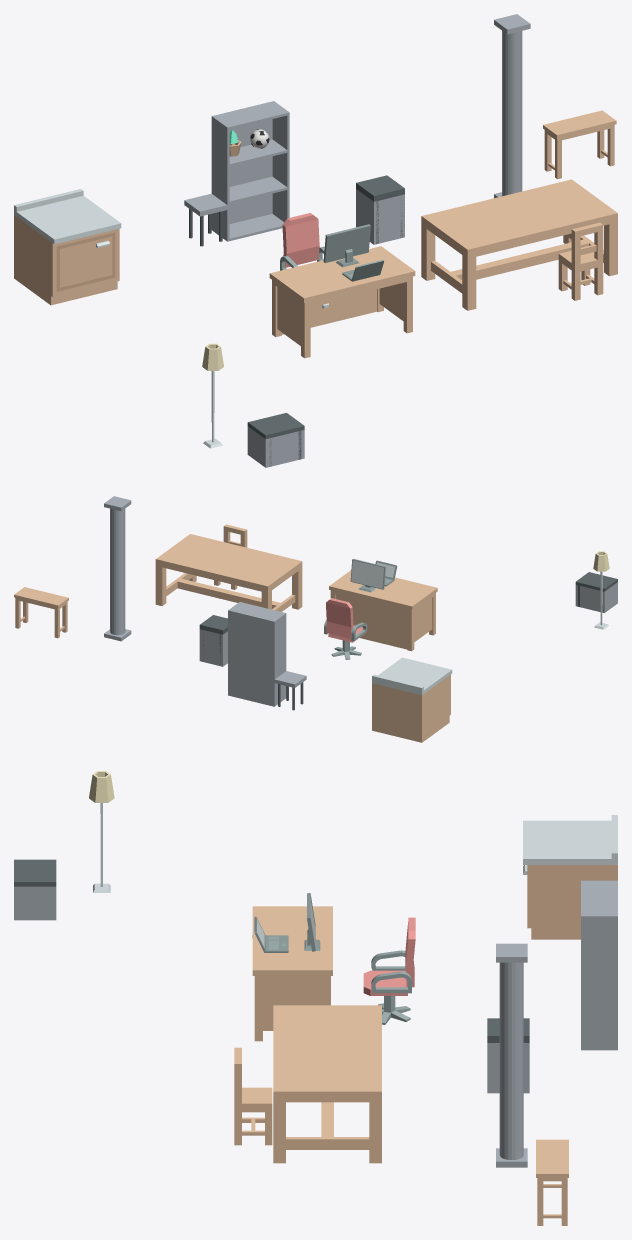
The picture shows the model from 3 angles, top to bottom: view 1: azimuth 30°, elevation 25°; view 2: azimuth 150°, elevation 25°; view 3: azimuth 270°, elevation 25°; orthographic projection. The views are drawn at different scales.
Visible parts, largest first — view 1: table_green__table(Clone), desk_blue__desk(Clone), cabinet_blue__kitchenCabinet(Clone), column_cyan__column_cyan shaft, cabinet_blue__door, chair_cyan__chair(Clone), shelf_orange__shelf_orange back, sidetable_brown__sideTable(Clone), bin_gray__bin_gray shell, shelf_orange__shelf_orange side_l, deskchair_black__chair, crate_red__crate_red shell (+10 smaller); view 2: table_green__table(Clone), cabinet_blue__kitchenCabinet(Clone), desk_blue__desk(Clone), shelf_orange__shelf_orange back, column_cyan__column_cyan shaft, sidetable_brown__sideTable(Clone), deskchair_black__chair, shelf_orange__shelf_orange side_l, bin_gray__bin_gray shell, monitor_gray__computerScreen(Clone), crate_red__crate_red shell, lamp_white__lampRoundFloor(Clone) (+5 smaller); view 3: table_green__table(Clone), cabinet_blue__kitchenCabinet(Clone), desk_blue__desk(Clone), shelf_orange__shelf_orange side_r, column_cyan__column_cyan shaft, sidetable_brown__sideTable(Clone), chair_cyan__chair(Clone), deskchair_black__chair, crate_red__crate_red shell, crate_red__crate_red lid, shelf_orange__shelf_orange board3, lamp_white__lampRoundFloor(Clone) (+3 smaller).
Boxes of the visible parts, bbox=[...] form: table_green__table(Clone): bbox=[421, 179, 617, 310]; desk_blue__desk(Clone): bbox=[269, 246, 415, 358]; cabinet_blue__kitchenCabinet(Clone): bbox=[14, 189, 121, 305]; column_cyan__column_cyan shaft: bbox=[502, 31, 522, 196]; cabinet_blue__door: bbox=[56, 232, 115, 291]; chair_cyan__chair(Clone): bbox=[558, 222, 603, 300]; shelf_orange__shelf_orange back: bbox=[214, 101, 272, 223]; sidetable_brown__sideTable(Clone): bbox=[543, 110, 616, 179]; bin_gray__bin_gray shell: bbox=[356, 189, 404, 244]; shelf_orange__shelf_orange side_l: bbox=[211, 115, 229, 241]; deskchair_black__chair: bbox=[280, 213, 324, 270]; crate_red__crate_red shell: bbox=[247, 426, 304, 467]; table_green__table(Clone): bbox=[155, 534, 302, 611]; cabinet_blue__kitchenCabinet(Clone): bbox=[372, 657, 452, 742]; desk_blue__desk(Clone): bbox=[329, 570, 437, 651]; shelf_orange__shelf_orange back: bbox=[229, 610, 272, 706]; column_cyan__column_cyan shaft: bbox=[110, 508, 125, 635]; sidetable_brown__sideTable(Clone): bbox=[14, 587, 68, 638]; deskchair_black__chair: bbox=[324, 598, 367, 642]; shelf_orange__shelf_orange side_l: bbox=[272, 612, 286, 706]; bin_gray__bin_gray shell: bbox=[199, 629, 227, 666]; monitor_gray__computerScreen(Clone): bbox=[350, 559, 385, 592]; crate_red__crate_red shell: bbox=[575, 582, 617, 612]; lamp_white__lampRoundFloor(Clone): bbox=[593, 551, 609, 629]; table_green__table(Clone): bbox=[273, 1005, 381, 1163]; cabinet_blue__kitchenCabinet(Clone): bbox=[523, 815, 617, 939]; desk_blue__desk(Clone): bbox=[252, 906, 332, 1041]; shelf_orange__shelf_orange side_r: bbox=[581, 915, 617, 1050]; column_cyan__column_cyan shaft: bbox=[499, 962, 523, 1159]; sidetable_brown__sideTable(Clone): bbox=[536, 1139, 568, 1225]; chair_cyan__chair(Clone): bbox=[234, 1047, 272, 1145]; deskchair_black__chair: bbox=[363, 917, 415, 995]; crate_red__crate_red shell: bbox=[14, 886, 56, 920]; crate_red__crate_red lid: bbox=[14, 859, 56, 886]; shelf_orange__shelf_orange board3: bbox=[581, 882, 615, 914]; lamp_white__lampRoundFloor(Clone): bbox=[89, 771, 114, 892].
Size of the model in its own units: 7.66 by 2.2 by 5.72.
